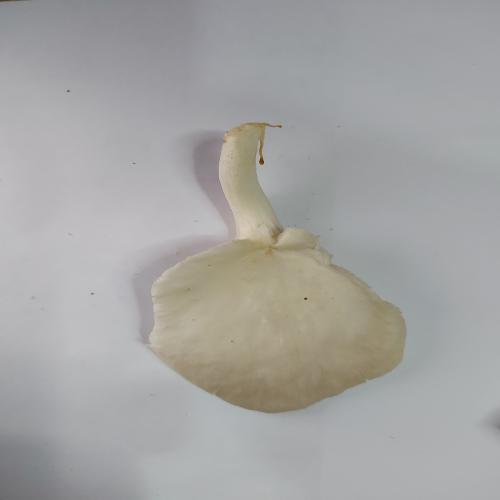Oyster Mushroom: (147, 121, 408, 414)
